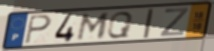4: (53, 12, 76, 44)
I: (141, 8, 155, 40)
M: (75, 12, 112, 42)
P: (24, 14, 53, 46)
Q: (106, 11, 135, 40)
Z: (159, 7, 191, 38)
